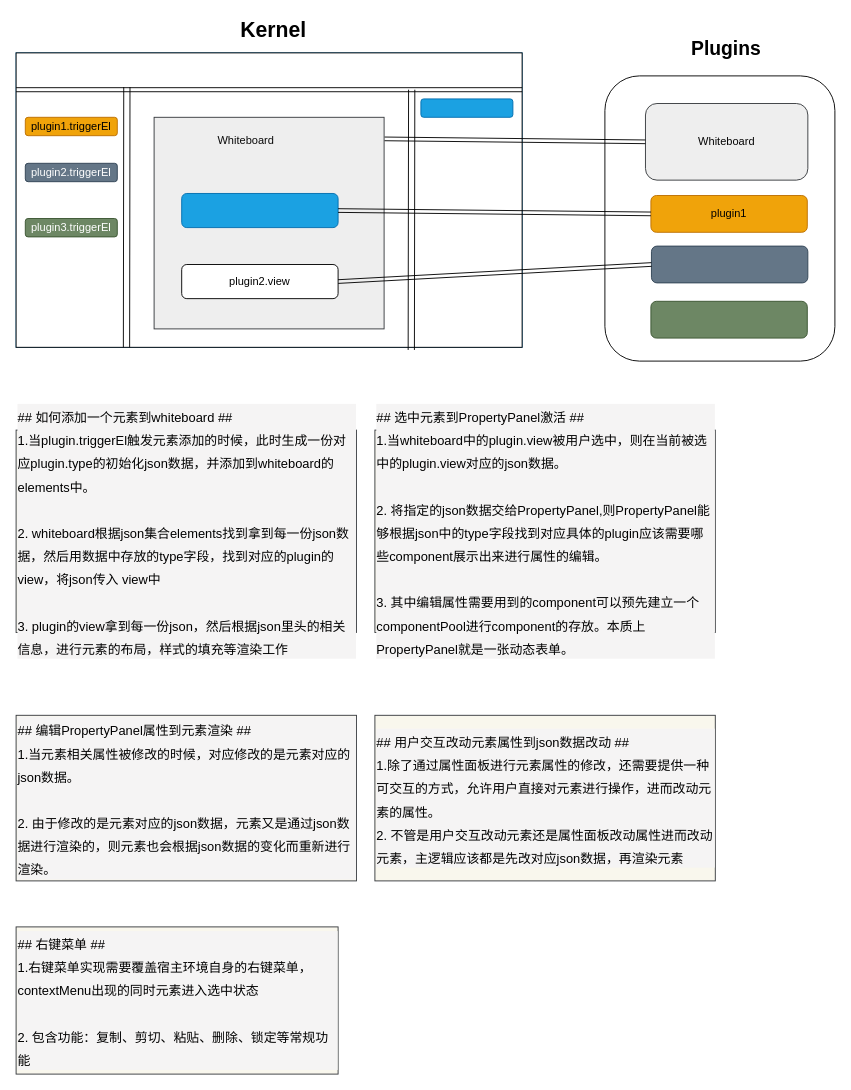
Some shapes in this 851 by 1090 pixel diagram are drawn without their labels. Here are the shapes that lost their labels. From the top down, the centre of each, then its label:
At point 466,107: "plugin1.propPanel".
At point 259,210: "plugin1.view".
At point 729,264: "plugin2".
At point 728,319: "plugin3".
